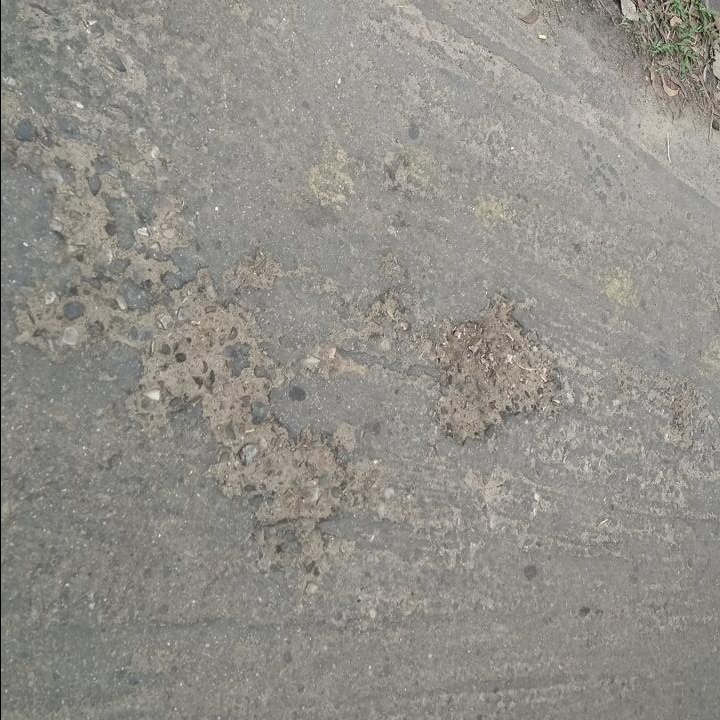pothole: (137, 269, 285, 418), (426, 286, 563, 446), (211, 413, 355, 532)
